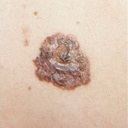Melanoma: (34, 33, 92, 90)
